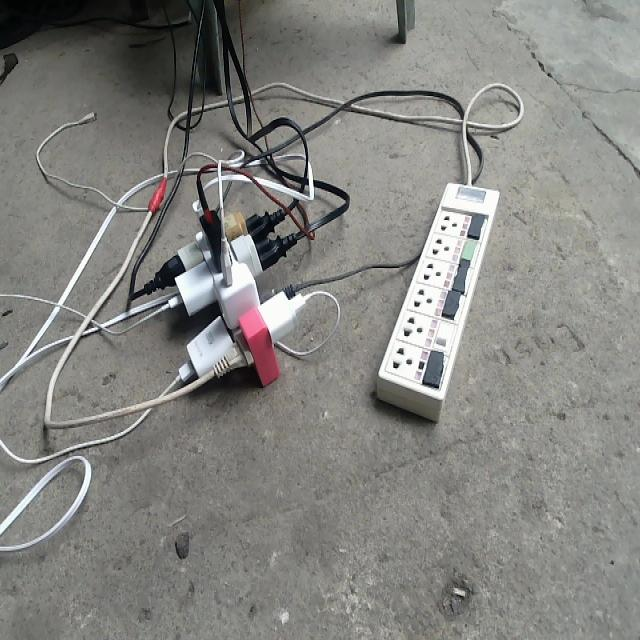-: (151, 184, 306, 388)
